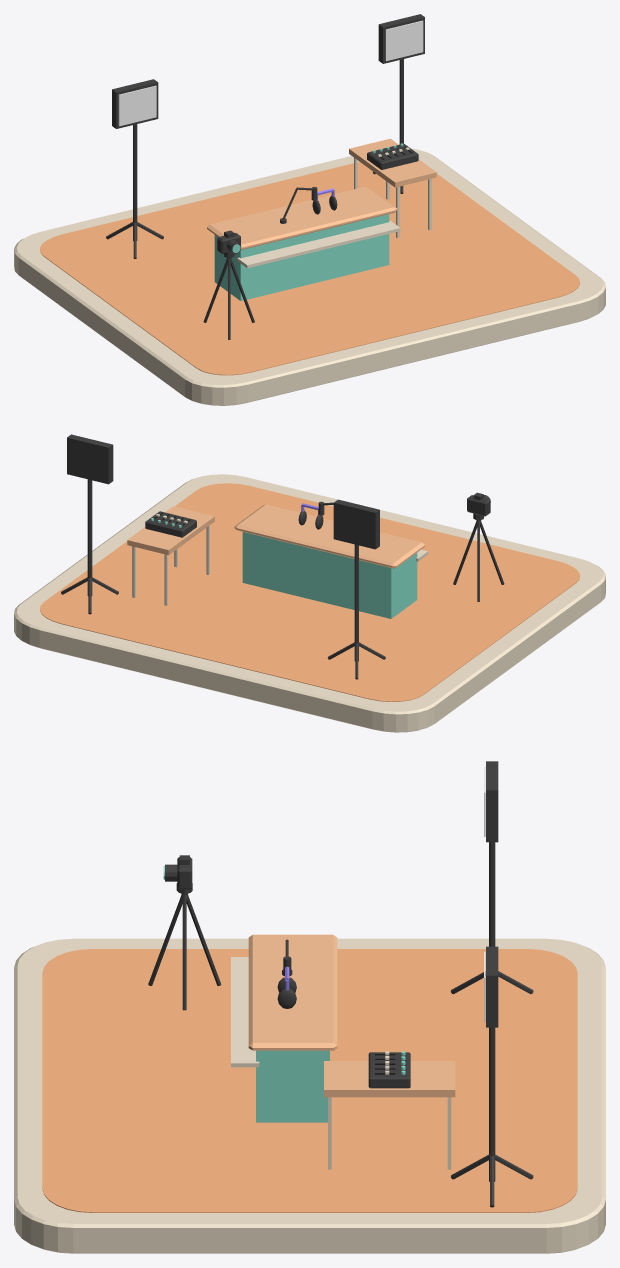
The model's file is room.fbx.
3 views of the same model, one above another, from view 1: azimuth 30°, elevation 25°; view 2: azimuth 150°, elevation 25°; view 3: azimuth 270°, elevation 25° (orthographic). The views are drawn at different scales.
Parts seen in each view (by area): view 1: COM-02 Floor Surface, COM-01 Rounded Base Direct, Counter body, Countertop, Top, Visitor shelf, Diffuser, Diffuser.001, Audio console, Light panel, Light panel.001, Pole; view 2: COM-02 Floor Surface, COM-01 Rounded Base Direct, Counter body, Countertop, Top, Light panel, Light panel.001, Audio console, Pole.001, Pole; view 3: COM-02 Floor Surface, COM-01 Rounded Base Direct, Countertop, Counter body, Top, Visitor shelf, Audio console, Light panel, Light panel.001, Pole.001, Pole.
Part boxes in pixels (<box>): COM-02 Floor Surface: <box>40,162,579,375</box>; COM-01 Rounded Base Direct: <box>14,148,605,405</box>; Counter body: <box>214,214,389,300</box>; Countertop: <box>207,186,397,249</box>; Top: <box>349,138,436,238</box>; Visitor shelf: <box>237,220,400,268</box>; Diffuser: <box>118,85,156,126</box>; Diffuser.001: <box>385,20,423,61</box>; Audio console: <box>367,143,418,169</box>; Light panel: <box>112,79,158,128</box>; Light panel.001: <box>378,14,424,63</box>; Pole: <box>133,124,137,240</box>; COM-02 Floor Surface: <box>40,483,579,701</box>; COM-01 Rounded Base Direct: <box>14,474,605,732</box>; Counter body: <box>242,532,417,618</box>; Countertop: <box>234,504,424,568</box>; Top: <box>127,506,214,605</box>; Light panel: <box>333,499,379,549</box>; Light panel.001: <box>67,434,113,484</box>; Audio console: <box>145,511,196,537</box>; Pole.001: <box>87,479,92,595</box>; Pole: <box>354,544,358,661</box>; COM-02 Floor Surface: <box>42,949,577,1212</box>; COM-01 Rounded Base Direct: <box>14,938,605,1253</box>; Countertop: <box>248,934,337,1050</box>; Counter body: <box>256,1050,329,1122</box>; Top: <box>324,1061,455,1169</box>; Visitor shelf: <box>231,957,259,1067</box>; Audio console: <box>368,1052,410,1088</box>; Light panel: <box>486,761,498,842</box>; Light panel.001: <box>486,946,498,1027</box>; Pole.001: <box>489,1027,495,1181</box>; Pole: <box>489,842,495,946</box>.
Size of the model in its own units: 600 by 250 by 520.
